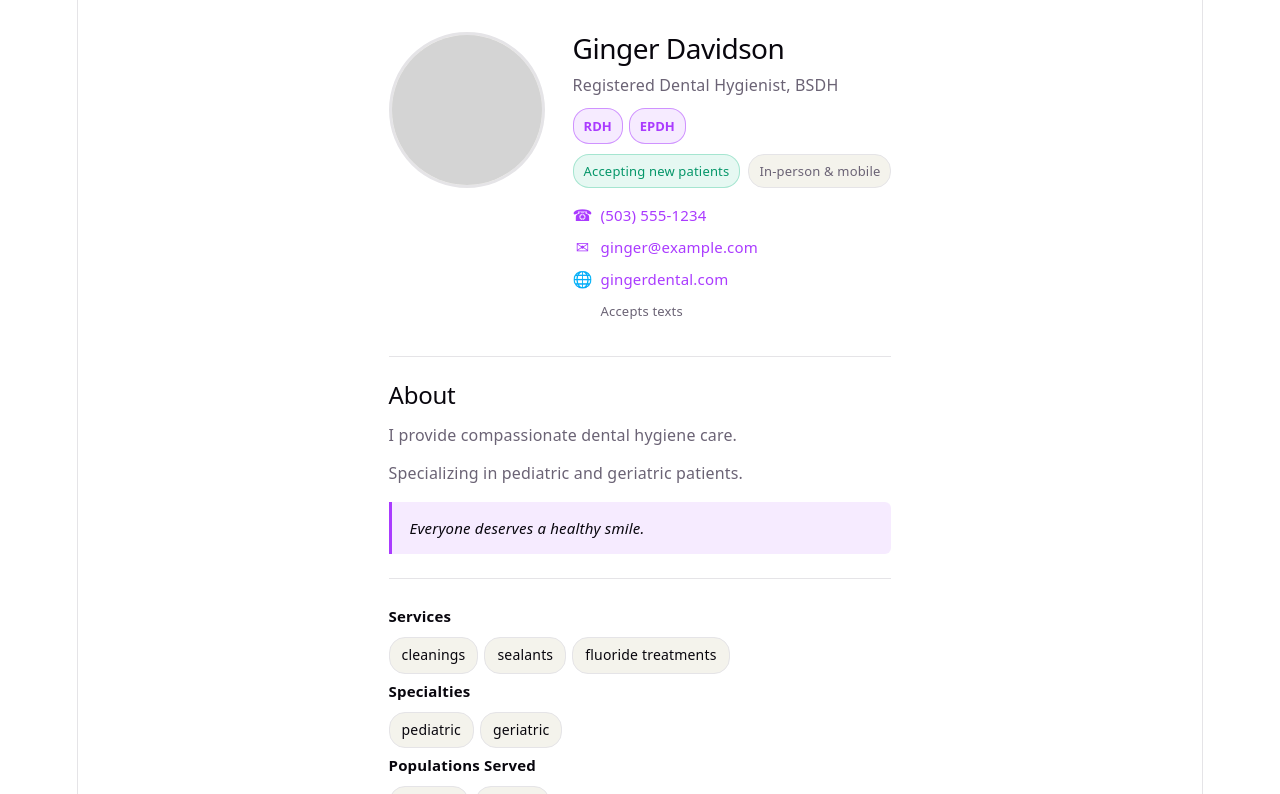
Scenario: Profile page › closes credential popover on outside click
Expected: the heading "Ginger Davidson" is shown, [572, 29, 784, 67]
Click the button "EPDH" at (657,126), box [629, 108, 686, 144]
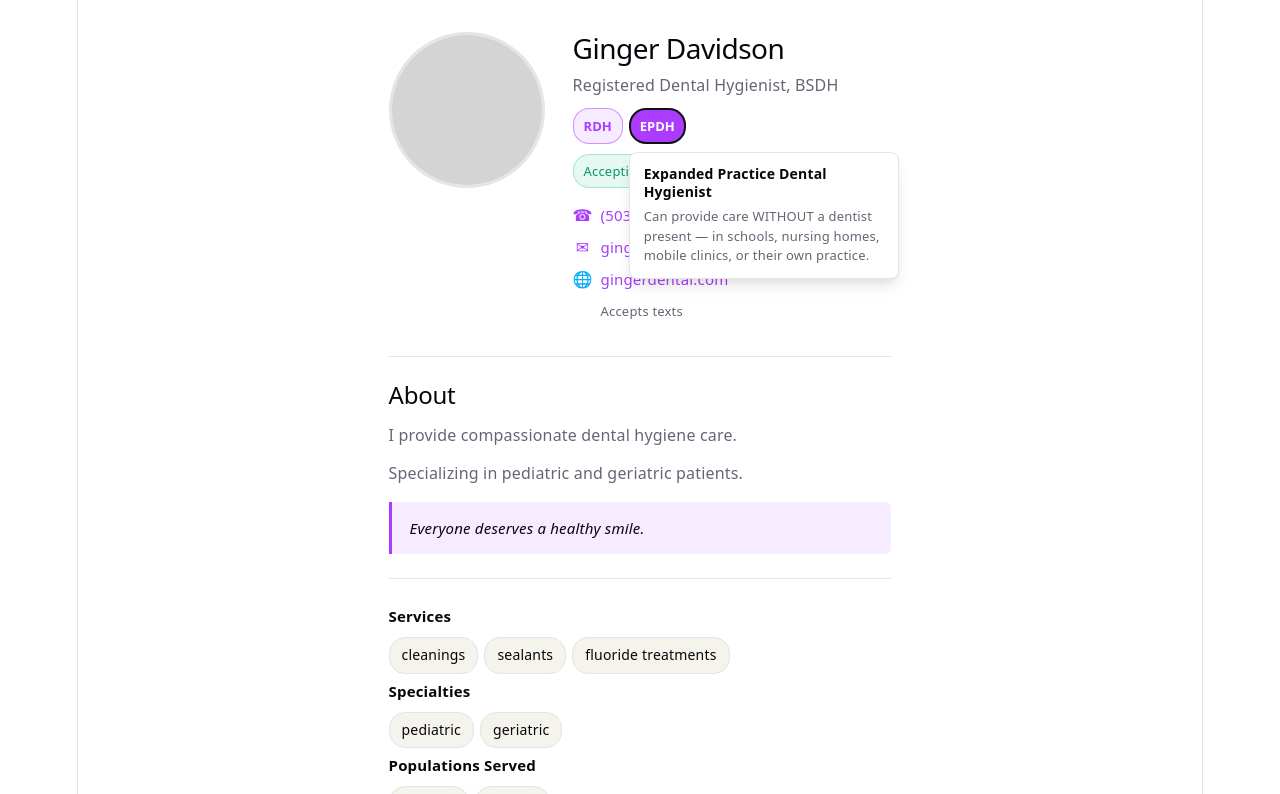
Expected: the text "Expanded Practice Dental Hygienist" is shown, [644, 164, 827, 201]
Note: Click somewhere else on the page
Click the heading "Ginger Davidson" at (678,48), box [572, 29, 784, 67]
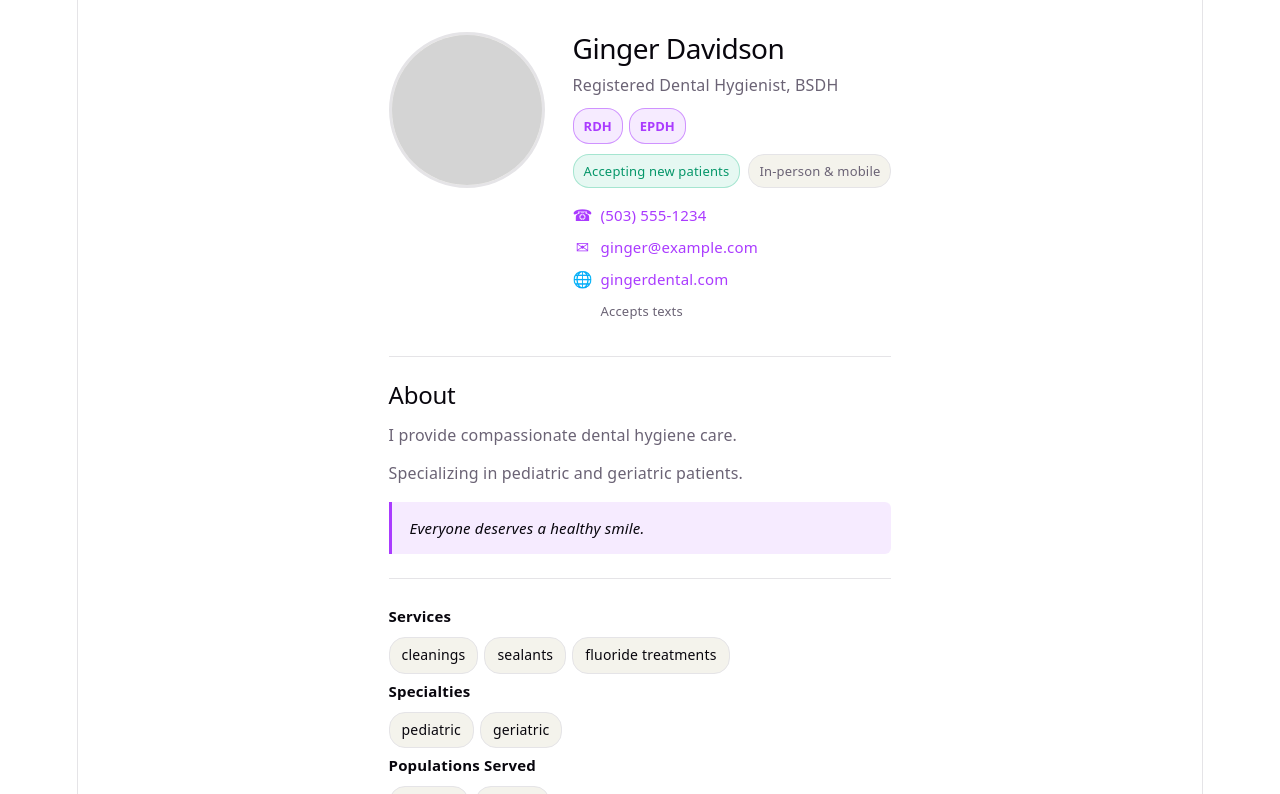
Expected: the text "Expanded Practice Dental Hygienist" is gone
